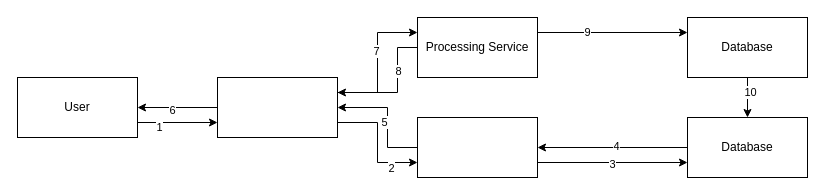
This 825x195 diagram has some shape labels left out. Here are the shapes that lost their labels. From the top down, the centre of each, then its label:
At (277,107): "Web Server".
At (477,147): "Query Service".
